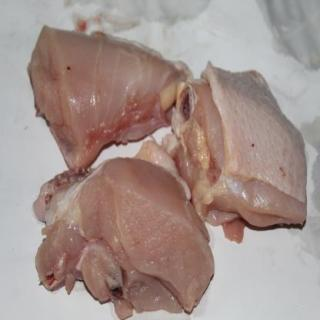Ayam: (39, 161, 216, 313), (178, 68, 307, 227), (30, 28, 189, 139)
